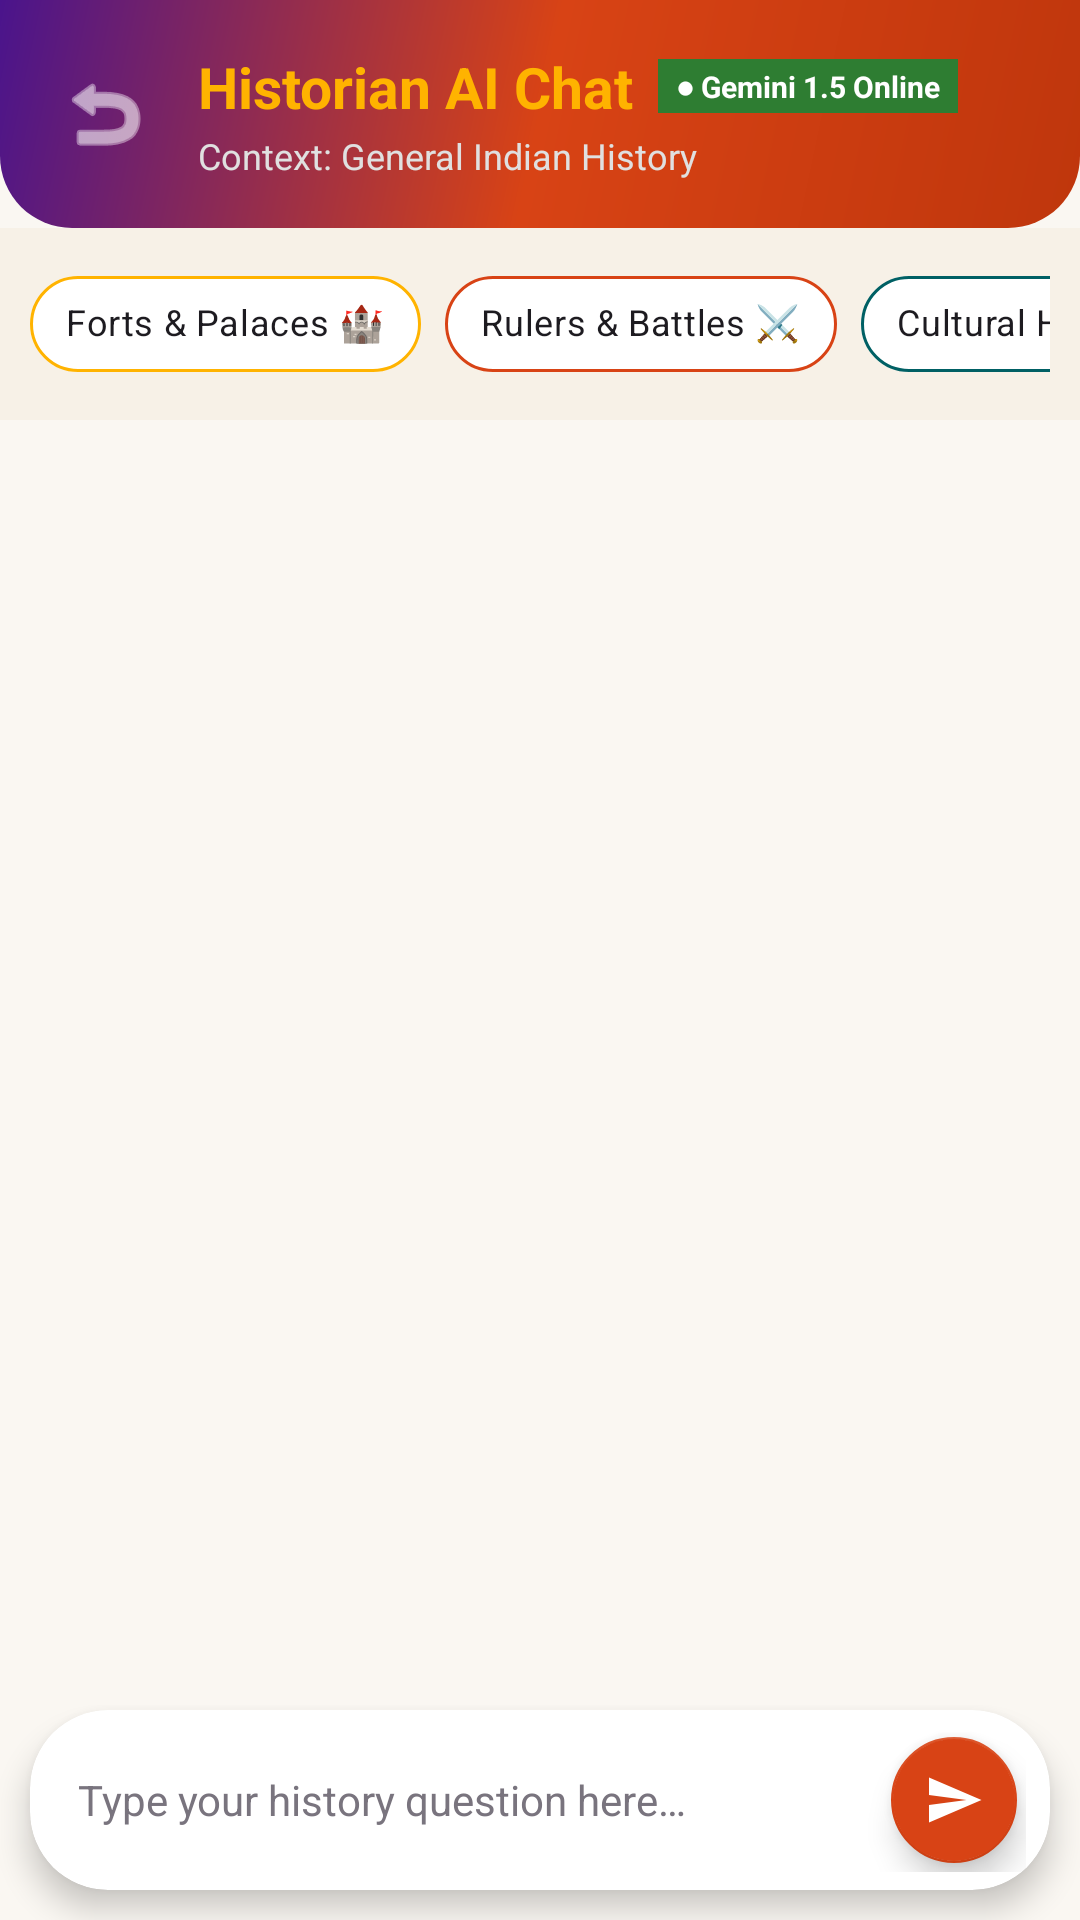

Icon click points for this 1080 x 1920 phone screenshot, format (x,y):
revert: (113,114)
Send: (955,1804)
